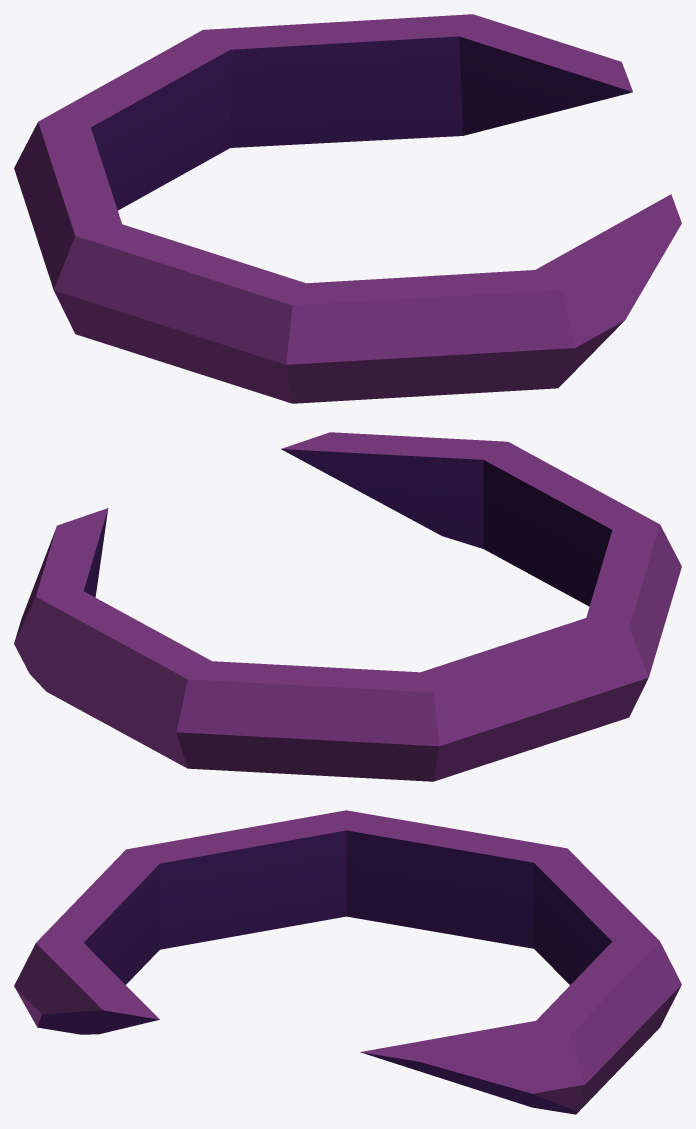
3 views of the same model, one above another, from view 1: azimuth 30°, elevation 25°; view 2: azimuth 150°, elevation 25°; view 3: azimuth 270°, elevation 25° (orthographic). The views are drawn at different scales.
Visible parts, largest first — view 1: v_03; view 2: v_03; view 3: v_03.
Part boxes in pixels (x1,y1,x2,y2): v_03: [14, 14, 681, 403]; v_03: [14, 432, 681, 781]; v_03: [14, 810, 681, 1114].
Bounding box in the file's own units: 0.2611 × 0.0402 × 0.2828.
1 material, 1 textured.
